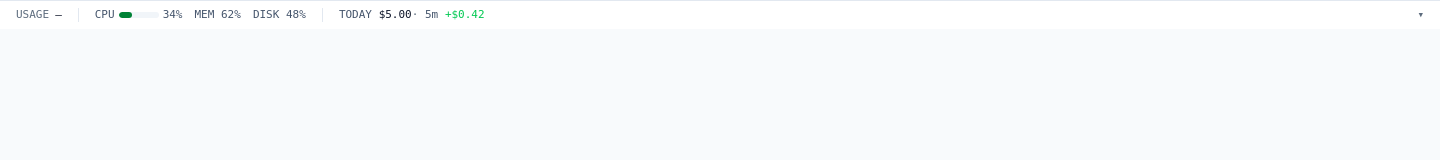
Test: appStatusBar › expands cost segment on click
The image size is (1440, 160).
Step 1. Click the button with test id "seg-cost" → coordinates (412, 15), box x1=335 y1=7 x2=489 y2=23
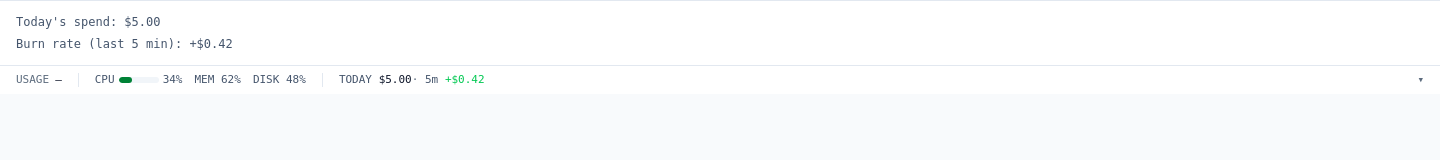
expect the element with test id "panel-cost" is shown: met, box x1=0 y1=1 x2=1439 y2=66
